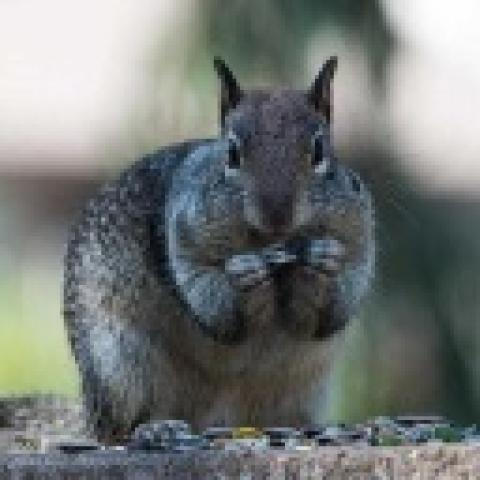small_animal: (56, 49, 379, 439)
